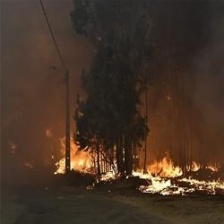fire: (50, 131, 224, 209)
